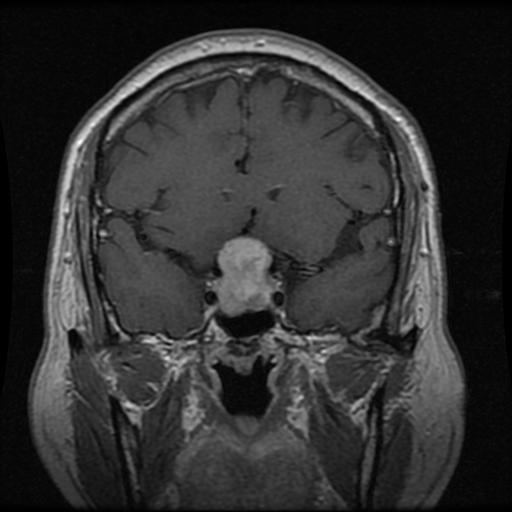Pituirity_tumour: (215, 237, 273, 310)
